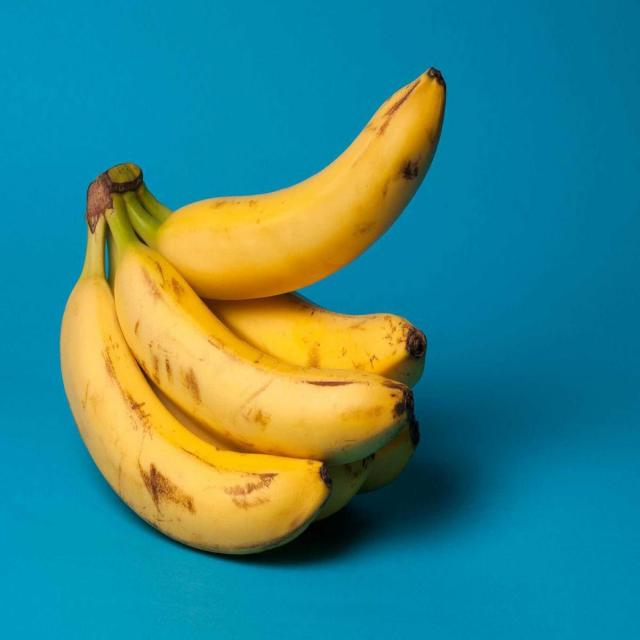banana: (51, 45, 451, 574)
